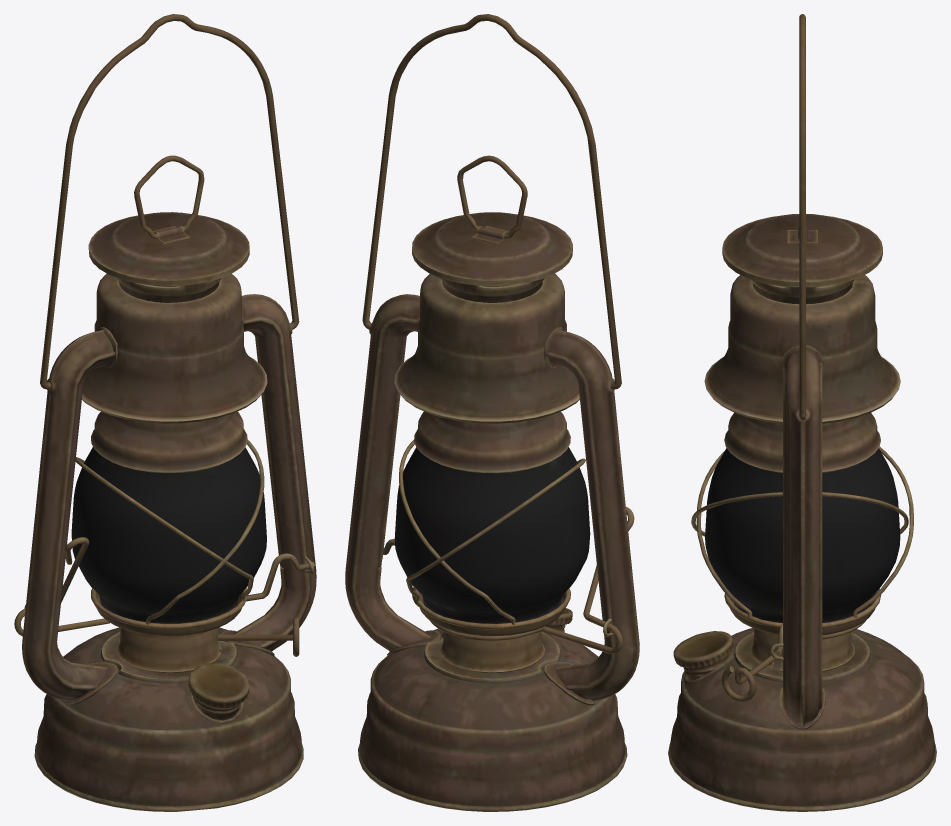
The model's file is Lantern_01.glb.
3 views of the same model, side by side, from view 1: azimuth 30°, elevation 25°; view 2: azimuth 150°, elevation 25°; view 3: azimuth 270°, elevation 25° (orthographic).
Parts seen in each view (by area): view 1: Lantern_01, Lantern_01_glass; view 2: Lantern_01, Lantern_01_glass; view 3: Lantern_01, Lantern_01_glass.
Boxes of the visible parts, box(x1,y1,x2,y2) form: Lantern_01: box(14, 14, 316, 811); Lantern_01_glass: box(71, 447, 266, 623); Lantern_01: box(345, 14, 639, 811); Lantern_01_glass: box(394, 447, 590, 623); Lantern_01: box(668, 14, 936, 811); Lantern_01_glass: box(705, 448, 900, 622).
Bounding box in the file's own units: 0.1221 × 0.2942 × 0.0971.
2 materials, 2 textured.
